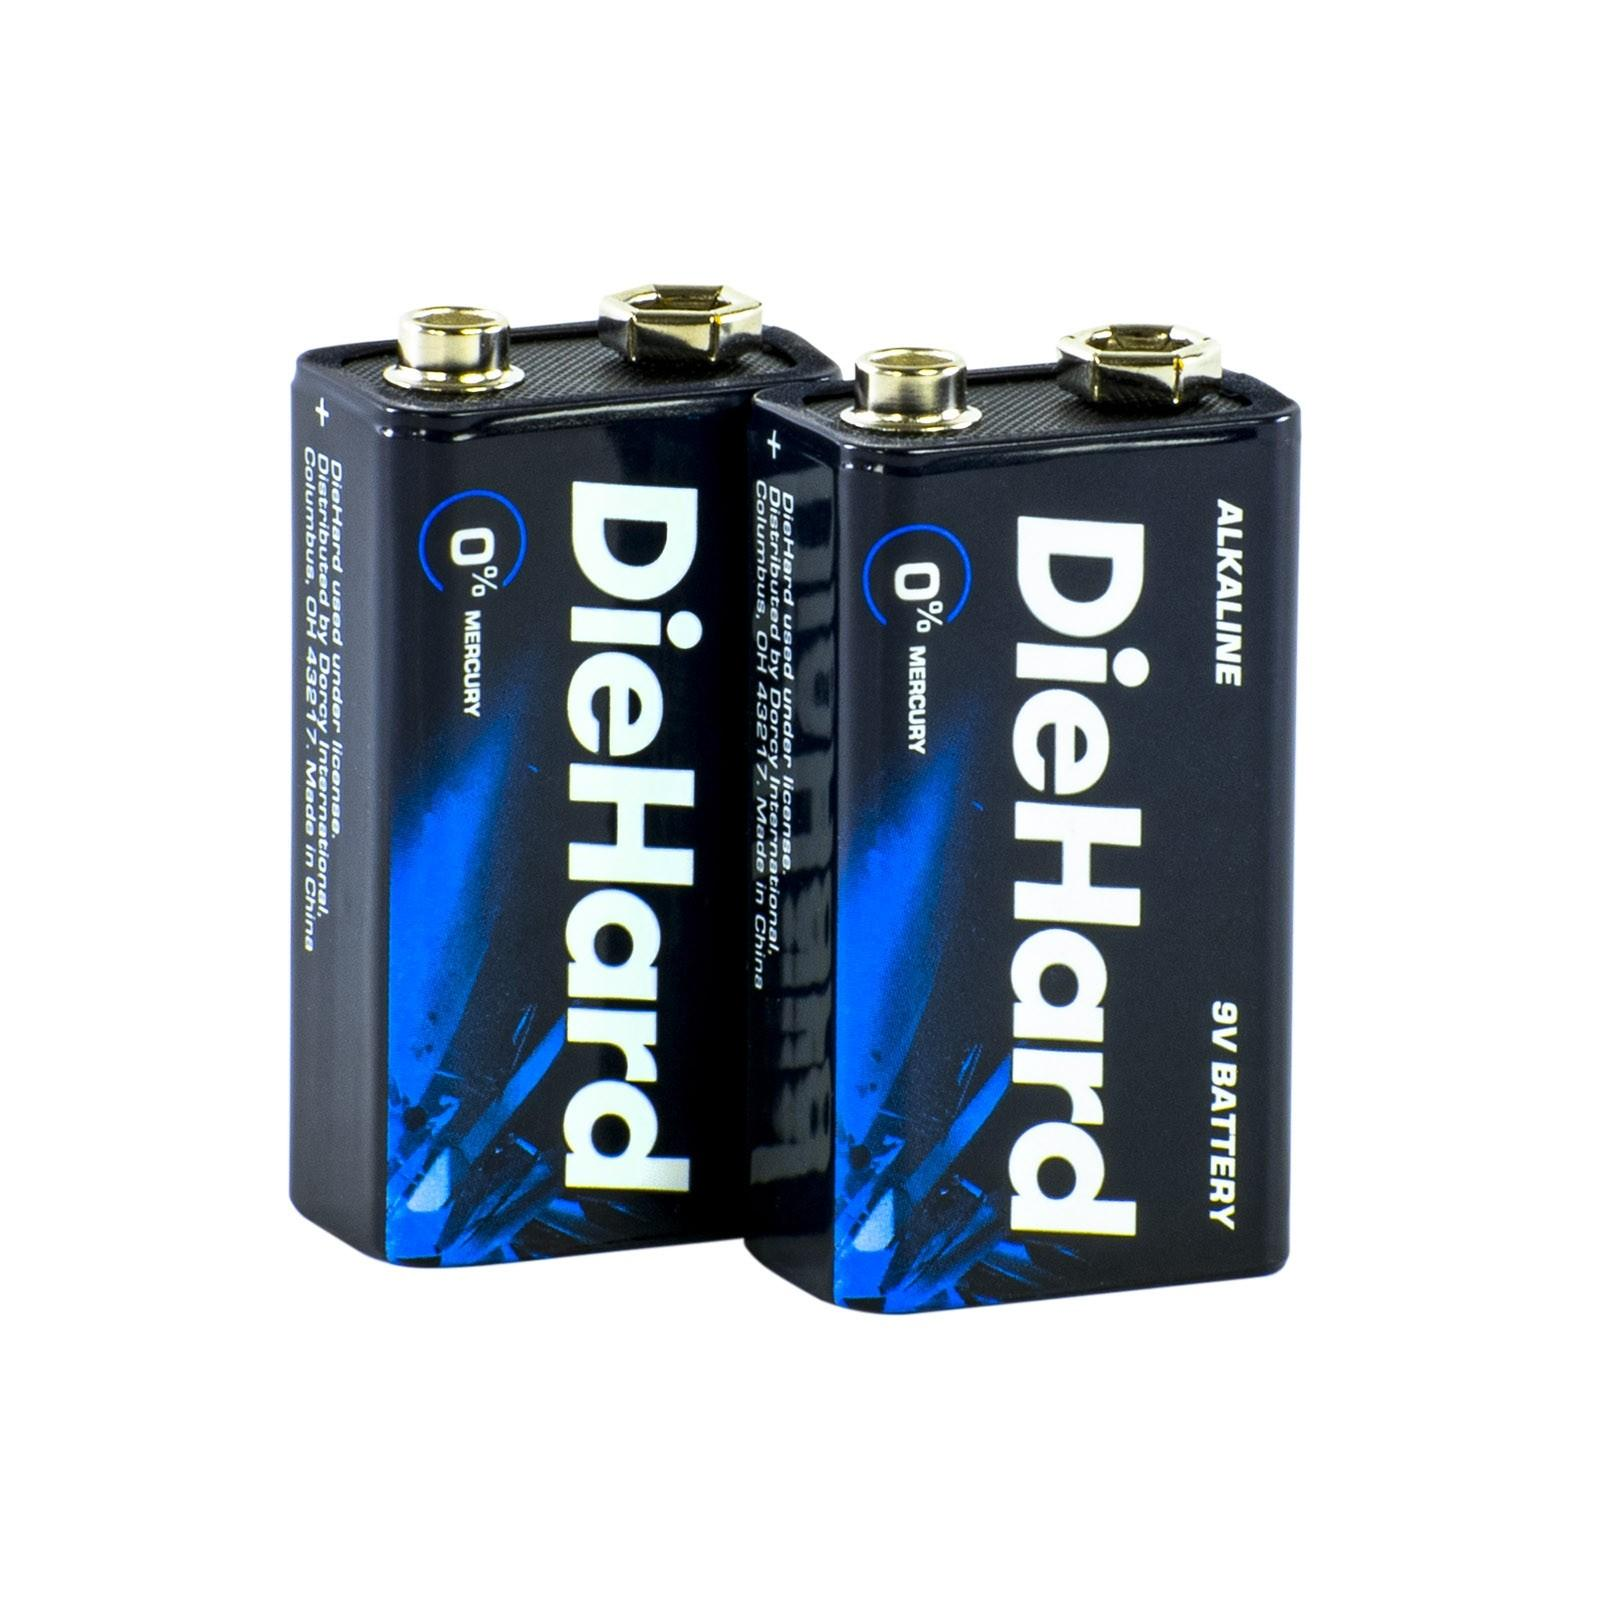9V Battery: (746, 321, 1303, 1322)
